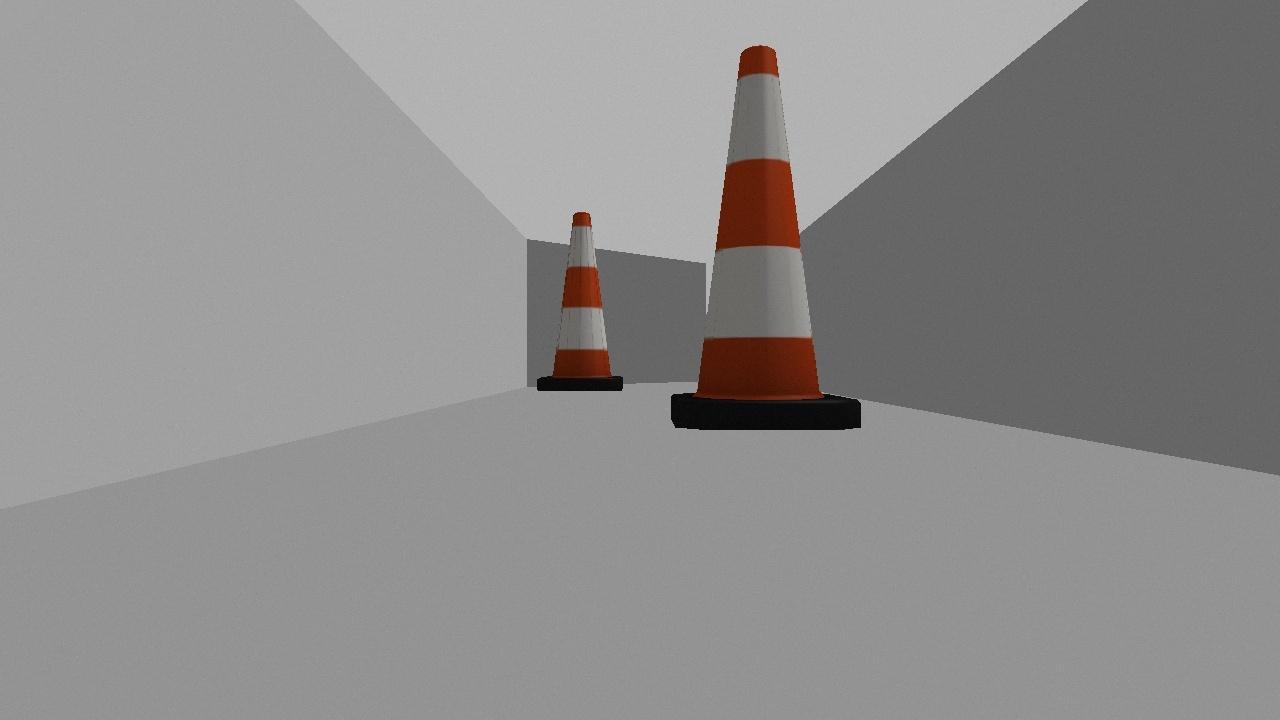cone_barrel: (652, 44, 873, 438), (527, 208, 631, 395)
